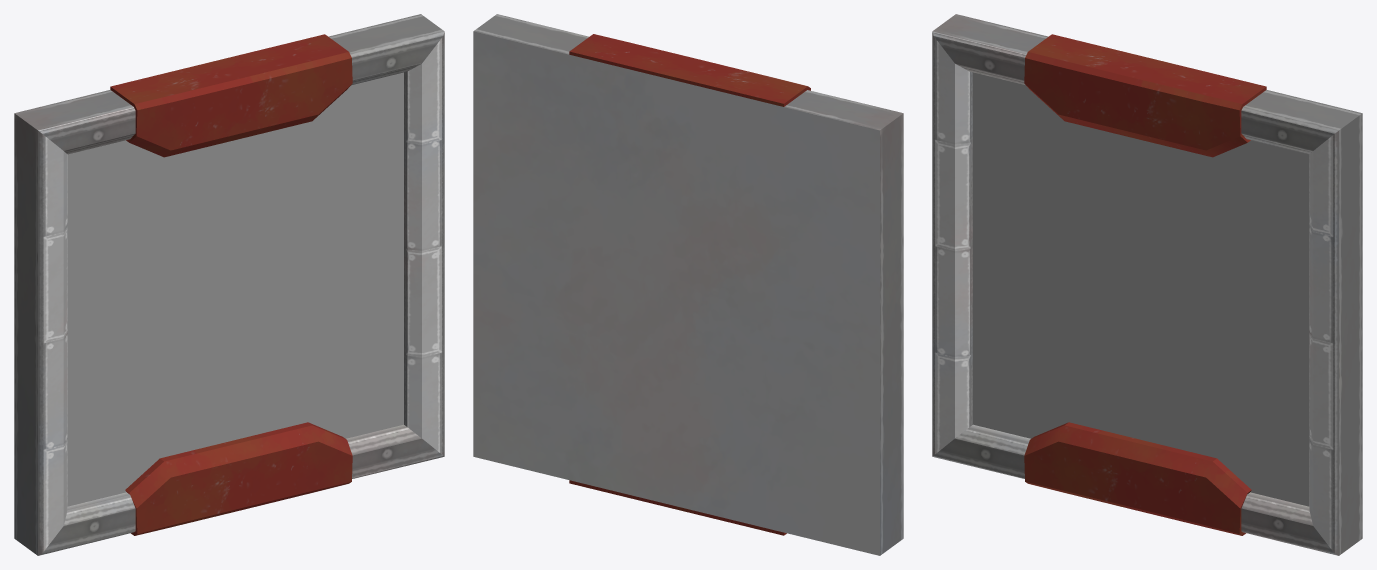
File: SM_Display.fbx
3 renders of one model, left to right at view 1: azimuth 30°, elevation 25°; view 2: azimuth 150°, elevation 25°; view 3: azimuth 330°, elevation 25°, orthographic.
Parts seen in each view (by area): view 1: SM_Display; view 2: SM_Display; view 3: SM_Display.
Part boxes in pixels (x1,y1,x2,y2): SM_Display: (14, 14, 444, 555); SM_Display: (473, 14, 903, 555); SM_Display: (932, 14, 1362, 555).
Bounding box in the file's own units: 133 × 135 × 15.23.
2 materials, 1 textured.
